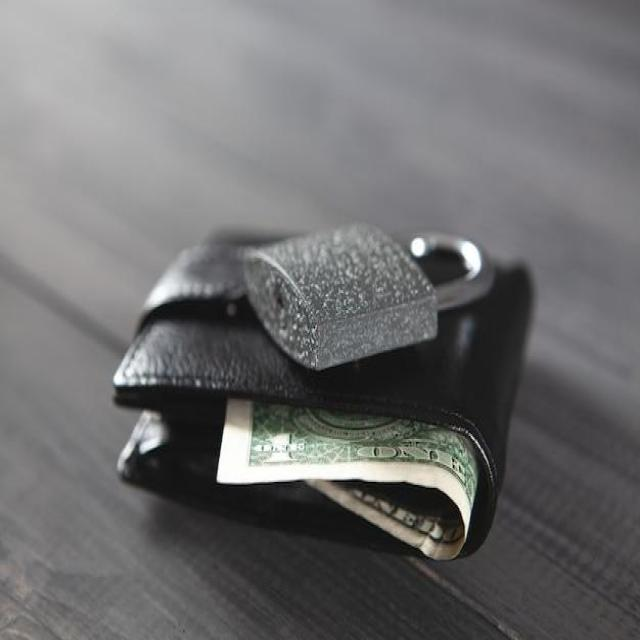cuzdan: (116, 318, 534, 612)
